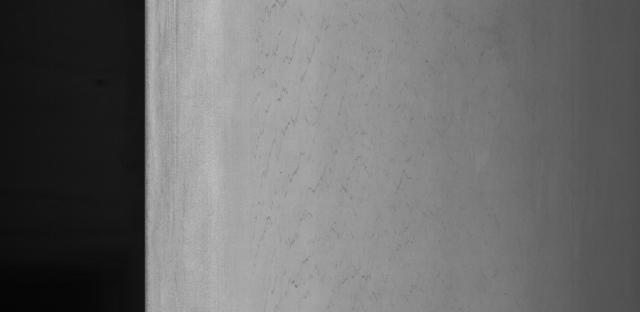silk_spot: (250, 23, 409, 301)
